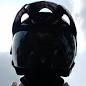helmets: (8, 1, 85, 86)
